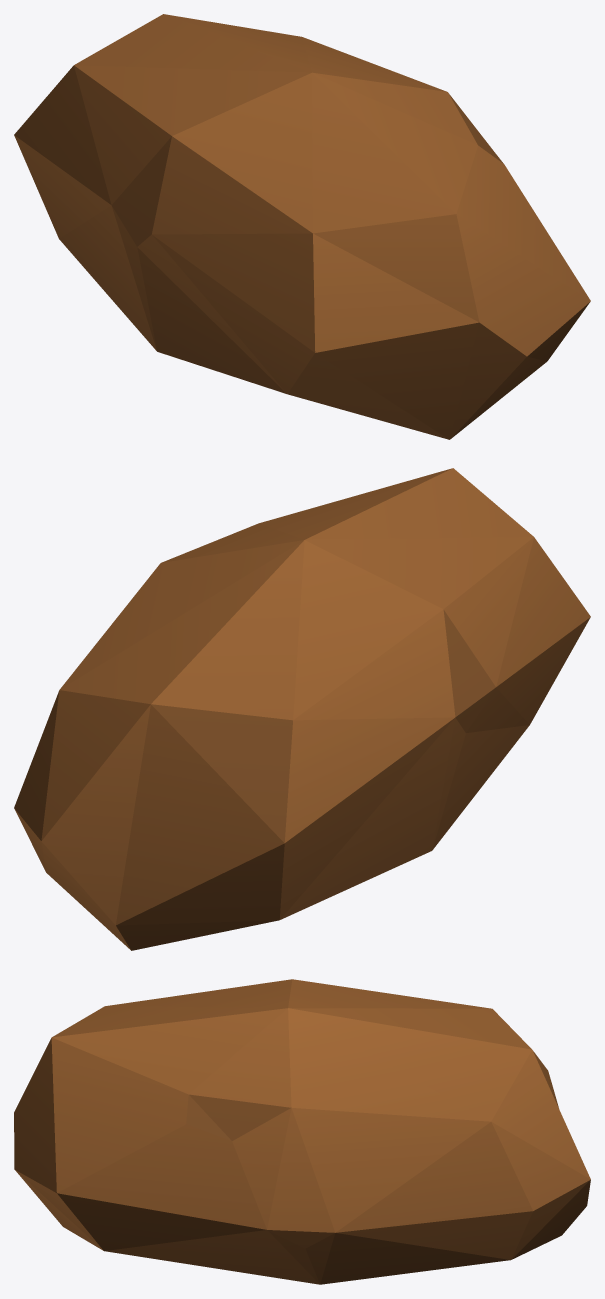
Rendered from Crop_Potato_01.obj.
The picture shows the model from 3 angles, top to bottom: view 1: azimuth 30°, elevation 25°; view 2: azimuth 150°, elevation 25°; view 3: azimuth 270°, elevation 25°; orthographic projection. The views are drawn at different scales.
Visible parts, largest first — view 1: Crop_Potato_01; view 2: Crop_Potato_01; view 3: Crop_Potato_01.
Part boxes in pixels (x1,y1,x2,y2): Crop_Potato_01: (14, 14, 590, 439); Crop_Potato_01: (14, 468, 590, 950); Crop_Potato_01: (14, 979, 590, 1284).
Bounding box in the file's own units: 0.1319 × 0.1065 × 0.2157.
Materials: 1 (1 with a texture image).
